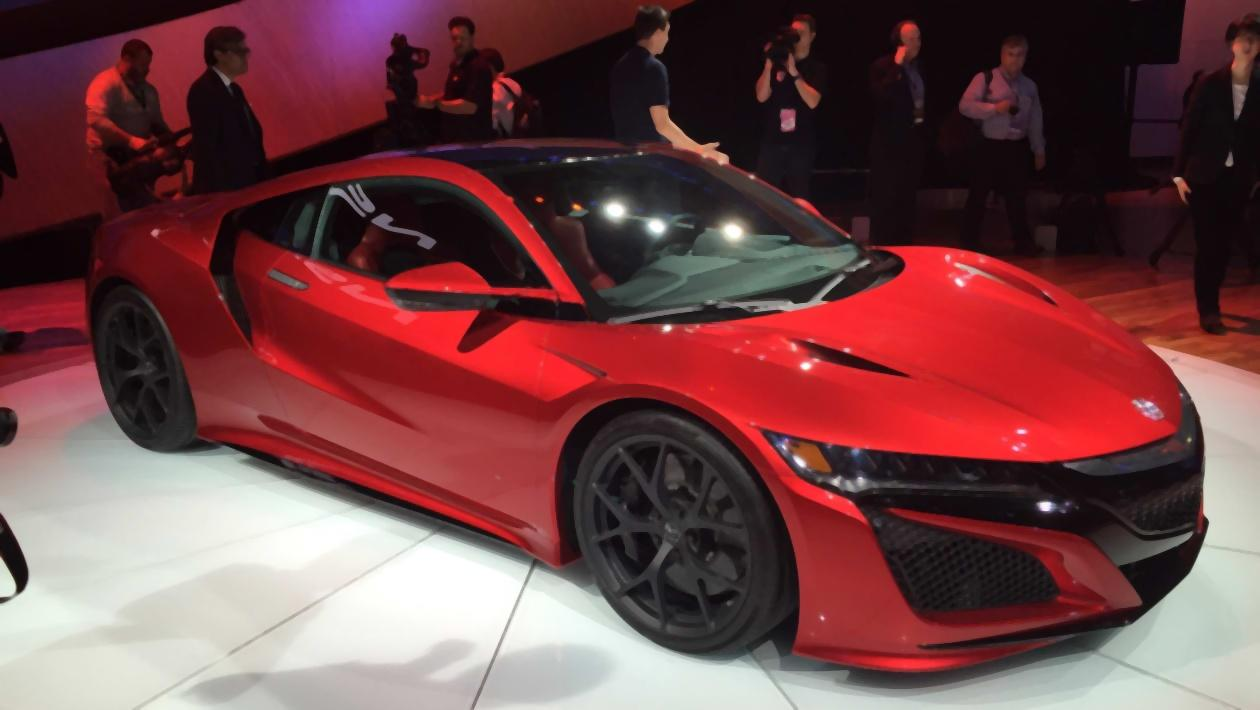Car hood: (627, 238, 1201, 466)
Driver-s door - -F-R-: (265, 118, 569, 570)
Fender - -F-R-: (530, 315, 796, 596)
Fender - -R-R-: (83, 181, 231, 454)
Front bumper: (775, 395, 1217, 685)
Headlight - -R-: (758, 431, 887, 505)
Side bumper - -R-: (179, 391, 580, 581)
Side mirror - -R-: (378, 261, 568, 318)
